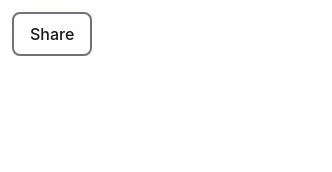
it: ShareButton › copies the text instead when the share sheet fails
Step 1. Click the button "Share" → (52, 34), box [12,12,92,56]
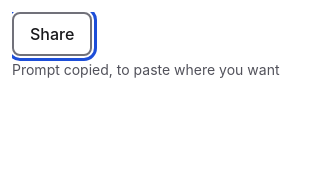
Now the message reads "Prompt copied, to paste where you want", box [12,61,280,78]
